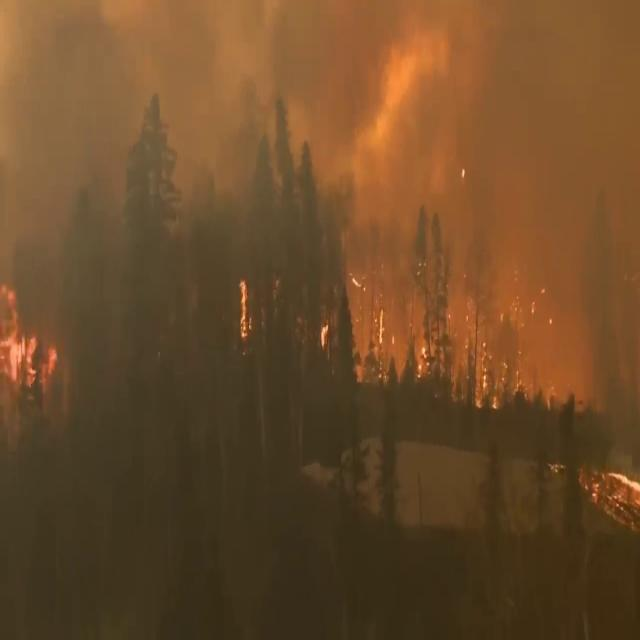Fire: (0, 274, 58, 396)
Smoke: (0, 1, 640, 330)
